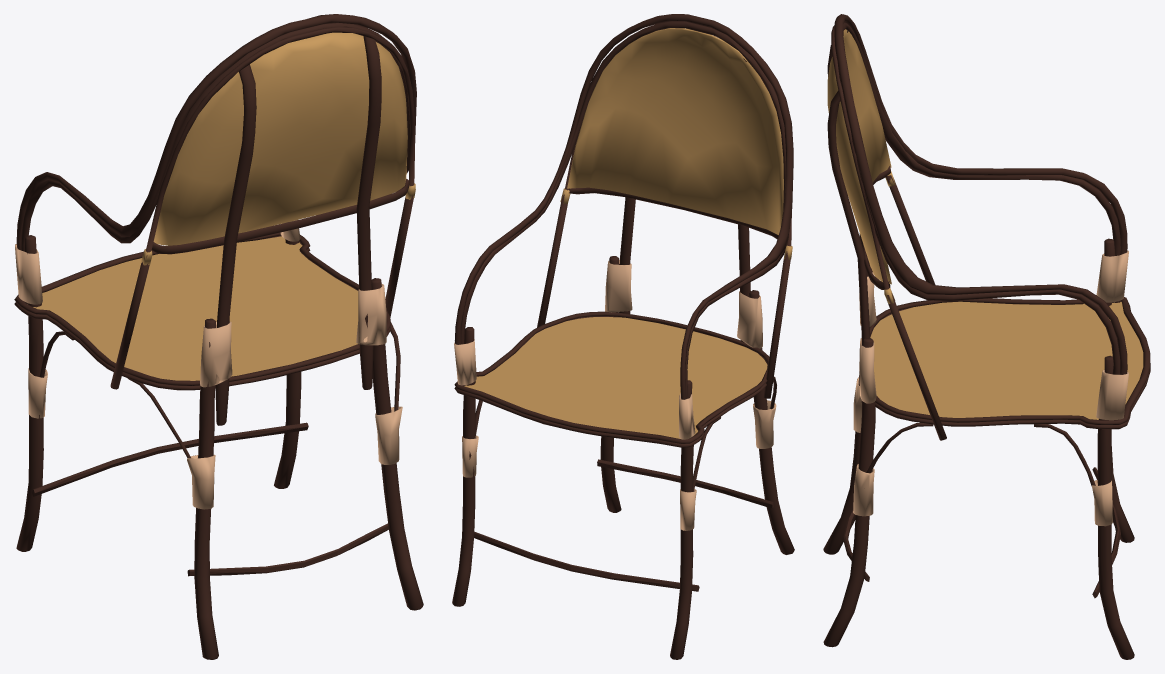
File: WickerChair.fbx
The picture shows the model from 3 angles, left to right: view 1: azimuth 30°, elevation 25°; view 2: azimuth 150°, elevation 25°; view 3: azimuth 270°, elevation 25°; orthographic projection. The views are drawn at different scales.
Parts seen in each view (by area): view 1: Cylinder.045; view 2: Cylinder.045; view 3: Cylinder.045.
Part boxes in pixels (x1=…): Cylinder.045: x1=14, y1=14, x2=423, y2=659; Cylinder.045: x1=452, y1=14, x2=794, y2=659; Cylinder.045: x1=823, y1=14, x2=1150, y2=659.
Size of the model in its own units: 155 by 321 by 167.
